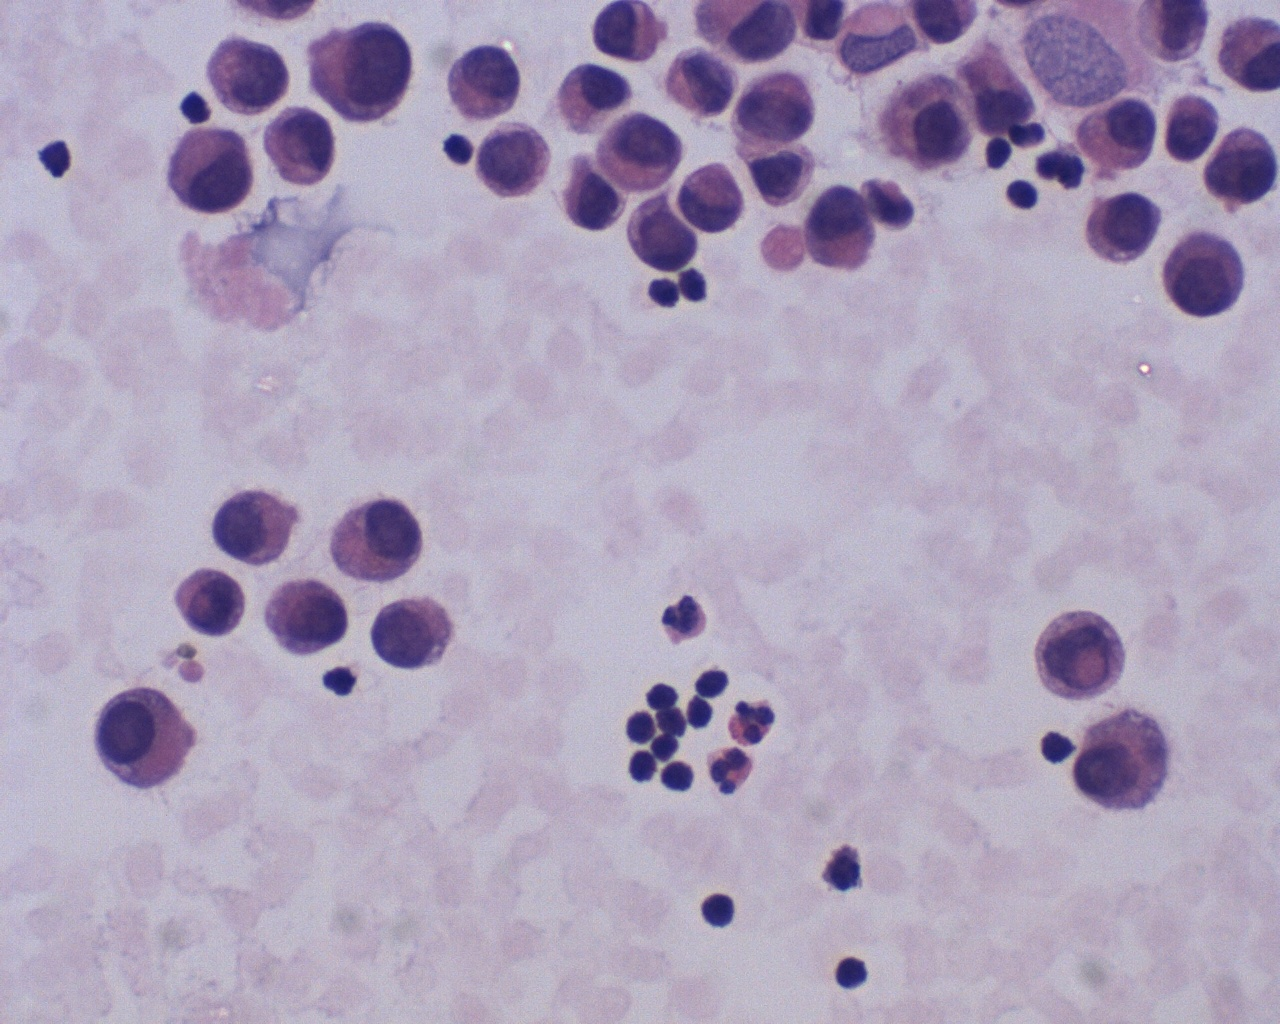ab: (307, 14, 418, 127), (1067, 703, 1176, 817), (150, 119, 259, 218), (193, 25, 302, 119), (725, 61, 827, 156), (1035, 603, 1125, 706), (1158, 228, 1251, 323), (261, 569, 358, 659), (599, 106, 688, 197), (210, 484, 304, 571), (369, 591, 462, 678), (164, 560, 255, 648), (441, 38, 534, 122), (1204, 117, 1280, 218), (258, 107, 347, 192), (466, 116, 554, 201), (1087, 178, 1166, 270), (628, 193, 701, 278), (665, 46, 736, 126), (589, 1, 670, 69), (1155, 91, 1223, 169)
lymph: (686, 889, 750, 940), (827, 948, 871, 993), (999, 177, 1043, 211)
meso: (86, 685, 207, 794)
neutro: (650, 582, 717, 649), (725, 697, 779, 747), (708, 746, 755, 804)
